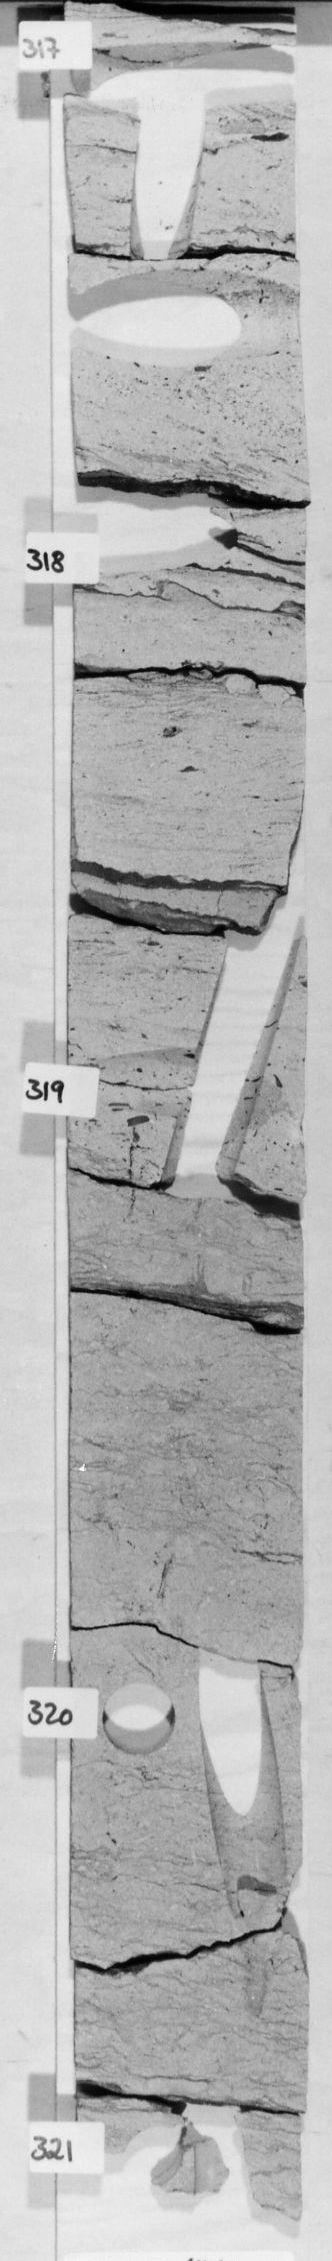hplug: (74, 40, 294, 115), (89, 513, 248, 596), (97, 1678, 180, 1766), (111, 2114, 186, 2187)
scal: (69, 264, 302, 371)
vplug: (154, 924, 299, 1205), (186, 1641, 294, 1922), (126, 115, 208, 262)
